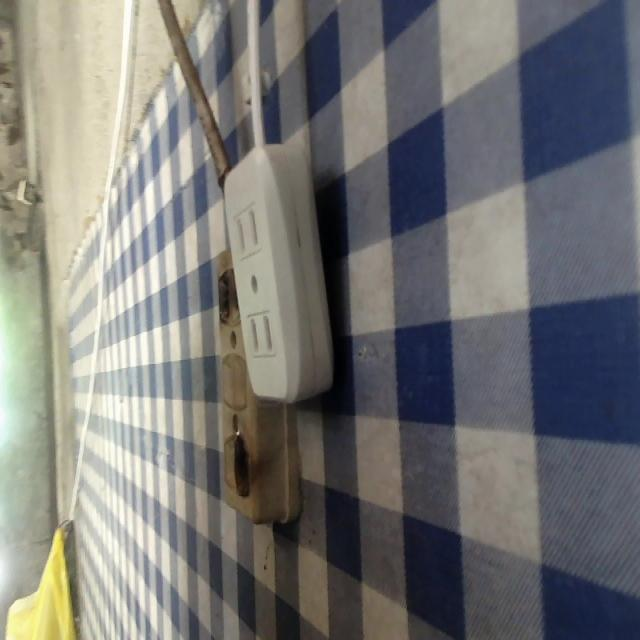-: (213, 264, 240, 324), (233, 431, 256, 497)
